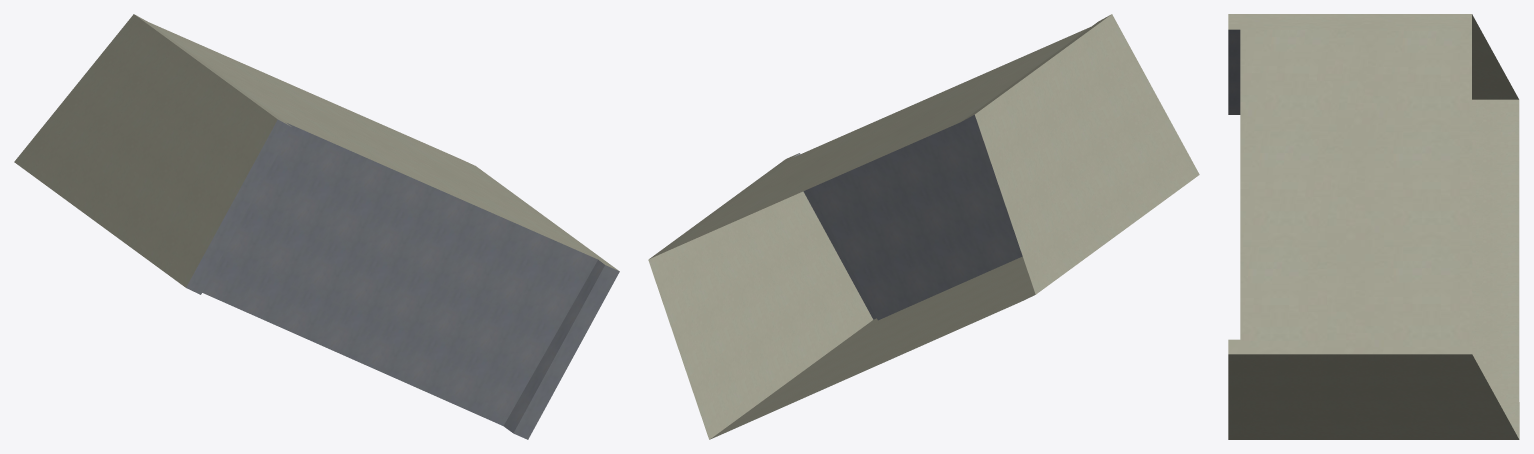
File: Sauna_10_2.obj
3 renders of one model, left to right at view 1: azimuth 30°, elevation 25°; view 2: azimuth 150°, elevation 25°; view 3: azimuth 270°, elevation 25°, orthographic. The views are drawn at different scales.
Visible parts, largest first — view 1: Sauna_10_2, xxx; view 2: Sauna_10_2, xxx; view 3: xxx, Sauna_10_2.
Boxes of the visible parts, x1,y1,x2,y2 form: Sauna_10_2: [14, 14, 619, 439]; xxx: [135, 15, 618, 270]; Sauna_10_2: [648, 14, 1199, 439]; xxx: [649, 15, 1110, 258]; xxx: [1228, 14, 1472, 354]; Sauna_10_2: [1228, 14, 1519, 439].
Size of the model in its own units: 8.96 by 7.53 by 6.15.
Materials: 2 (2 with a texture image).
